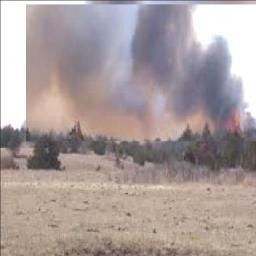Low smoke: (54, 0, 253, 152)
